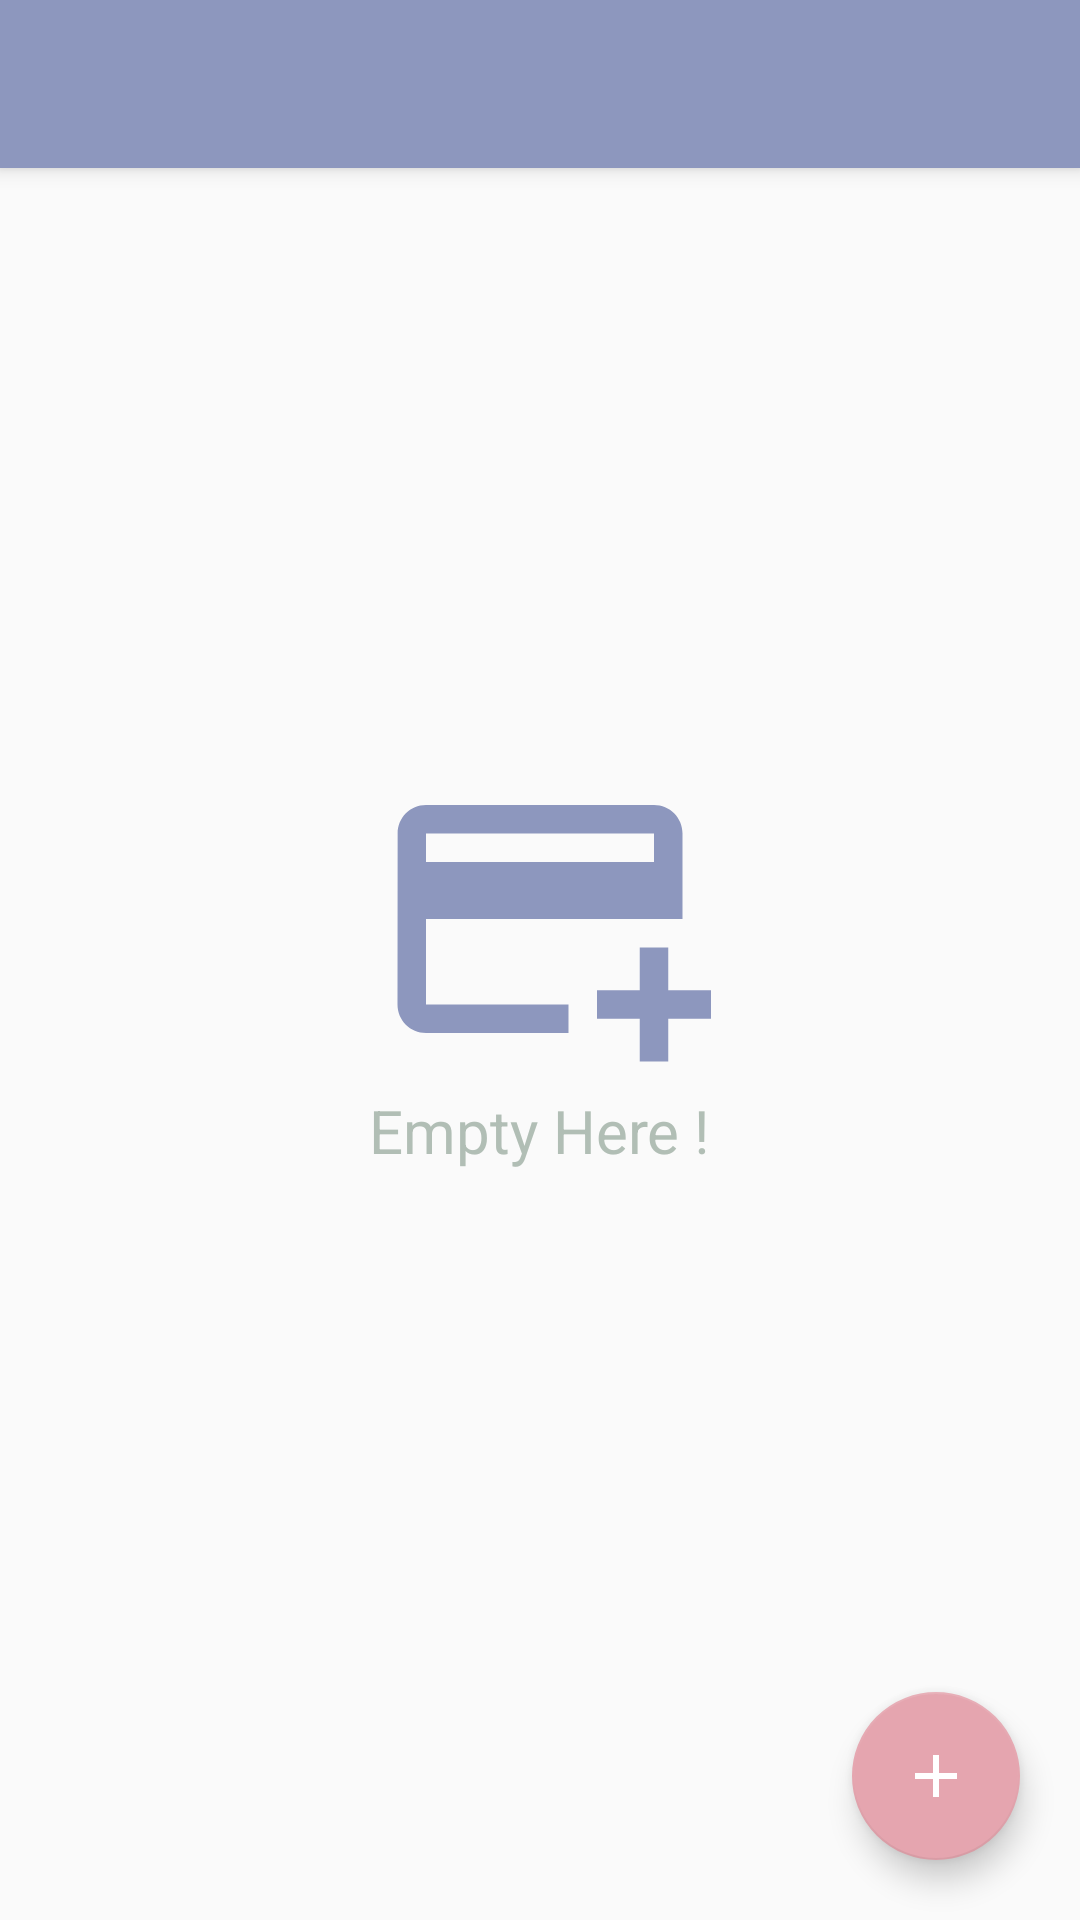

Where to tap for icons on this 1080px x 1920px app screen, as (x=x, y=y):
add card: (x=554, y=933)
plus: (x=936, y=1776)
